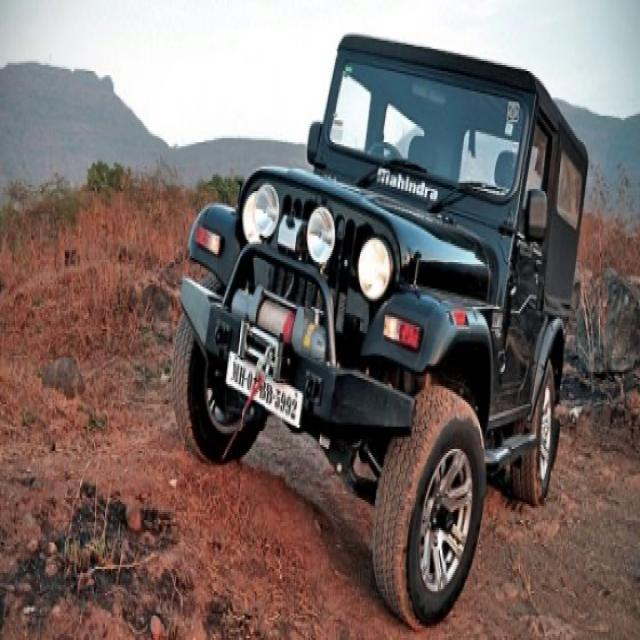licence: (229, 339, 305, 431)
